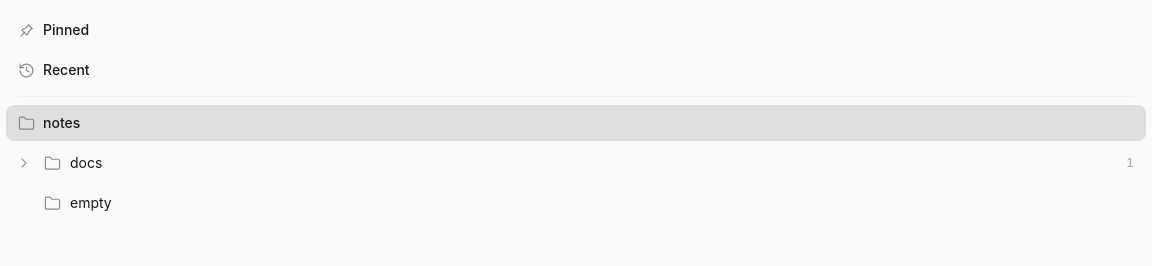
FolderTreeView › shows only direct folder note counts and hides zero-count folder badges
The image size is (1152, 266).
expect the text "docs" is shown: met, box x1=70 y1=154 x2=102 y2=171
expect the text "empty" is shown: met, box x1=70 y1=194 x2=112 y2=211
Click the button named "Expand folder". click: (24, 163)
box: x1=14 y1=153 x2=34 y2=173
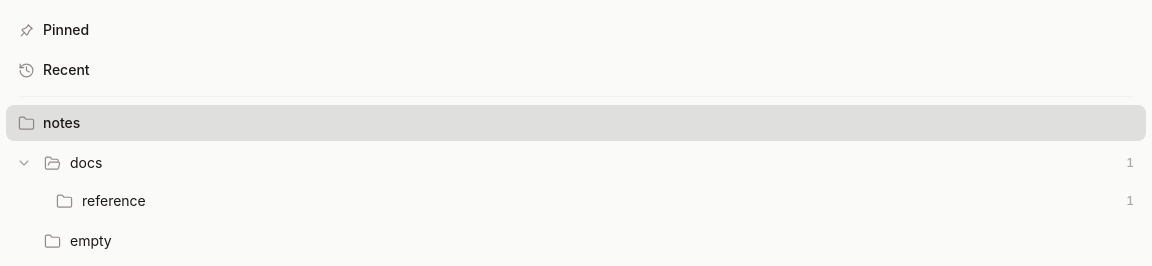
expect the text with class "ui-count-badge" in the row of "docs" reads "1": met, box x1=1126 y1=155 x2=1134 y2=170
expect the text "reference" is shown: met, box x1=82 y1=192 x2=146 y2=209
expect the text with class "ui-count-badge" in the row of "reference" reads "1": met, box x1=1126 y1=193 x2=1134 y2=208
